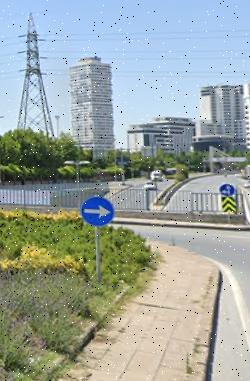turnright: (84, 197, 112, 228)
